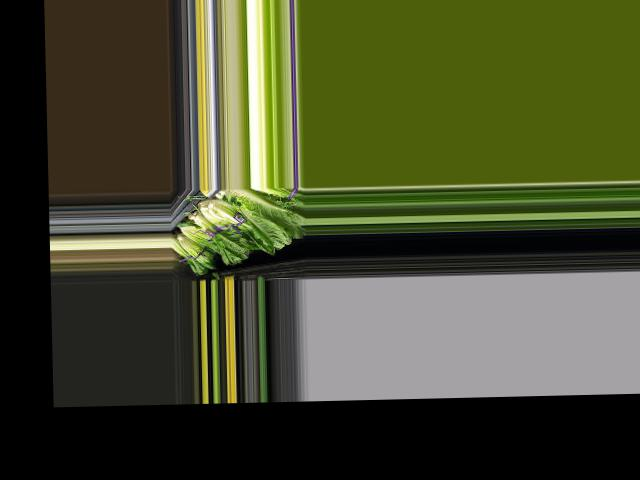lettuce: (226, 190, 304, 246)
